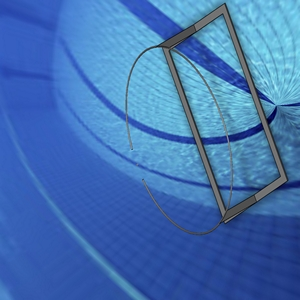circle: (123, 2, 286, 235)
